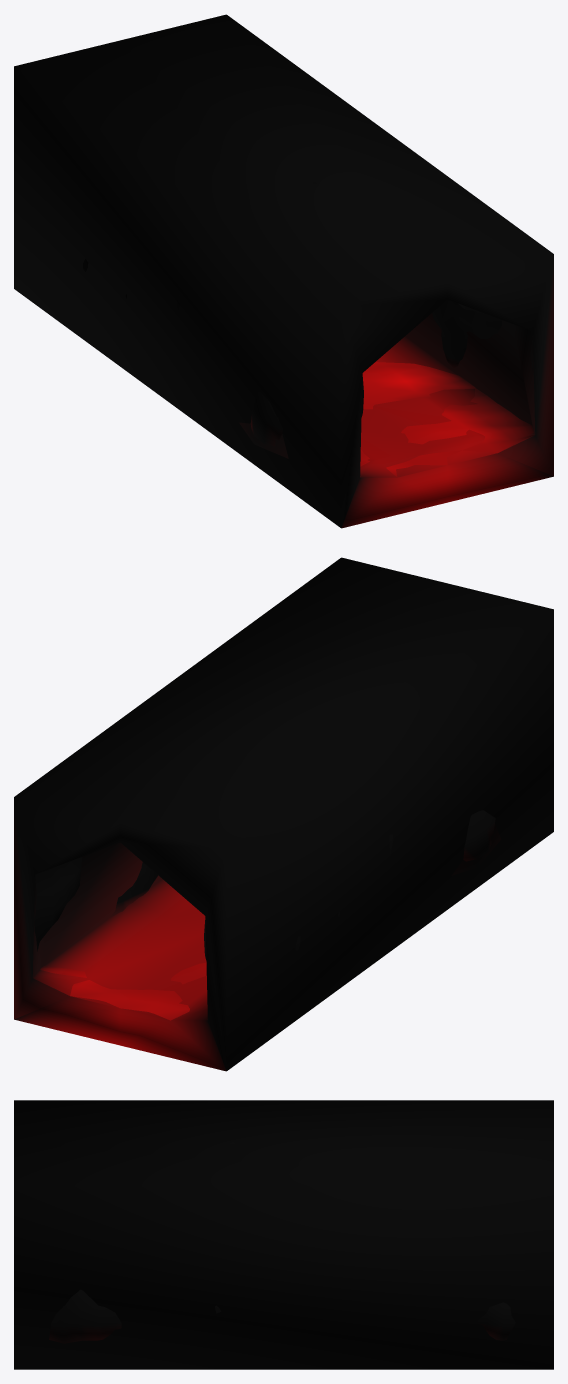
Rendered from JD_Cave_A_Tunnel_6x16_01.fbx.
3 views of the same model, one above another, from view 1: azimuth 30°, elevation 25°; view 2: azimuth 150°, elevation 25°; view 3: azimuth 270°, elevation 25° (orthographic). The views are drawn at different scales.
Visible parts, largest first — view 1: C_JD_Cave_A_Tunnel_6x16_01, JD_Cave_A_Tunnel_6x16_01; view 2: C_JD_Cave_A_Tunnel_6x16_01, JD_Cave_A_Tunnel_6x16_01; view 3: C_JD_Cave_A_Tunnel_6x16_01, JD_Cave_A_Tunnel_6x16_01.
Boxes of the visible parts, x1,y1,x2,y2 form: C_JD_Cave_A_Tunnel_6x16_01: [14, 14, 553, 528]; JD_Cave_A_Tunnel_6x16_01: [83, 181, 533, 476]; C_JD_Cave_A_Tunnel_6x16_01: [14, 557, 553, 1071]; JD_Cave_A_Tunnel_6x16_01: [34, 678, 495, 1020]; C_JD_Cave_A_Tunnel_6x16_01: [14, 1100, 553, 1369]; JD_Cave_A_Tunnel_6x16_01: [49, 1142, 515, 1343].
Size of the model in its own units: 6.41 by 6.03 by 16.
